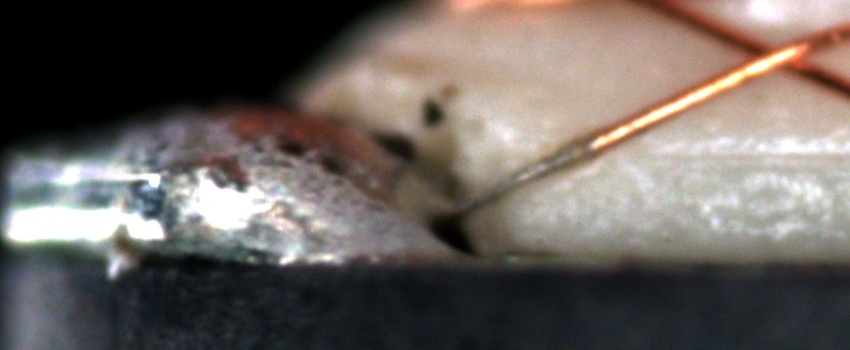CL: (724, 26, 822, 84)
DL: (637, 124, 850, 188)
TS: (436, 142, 591, 220)
TTCW: (450, 92, 687, 219)
